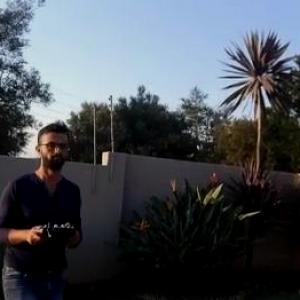follow: (0, 111, 86, 299)
